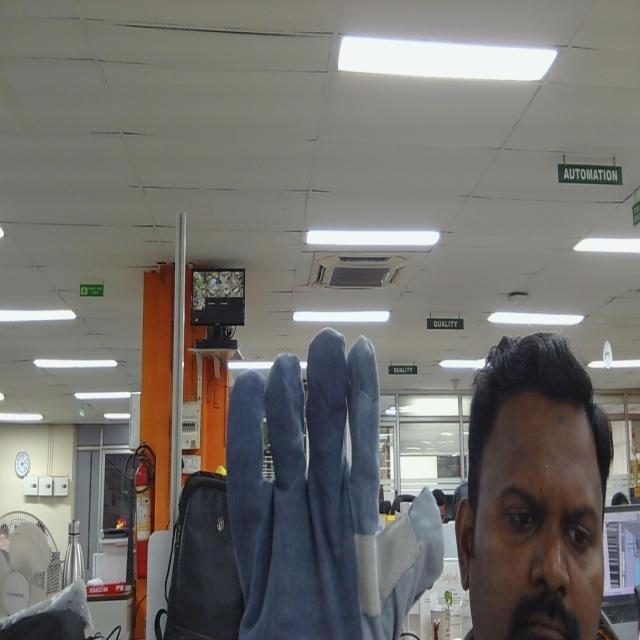Gloves-Detection: (218, 331, 444, 640)
